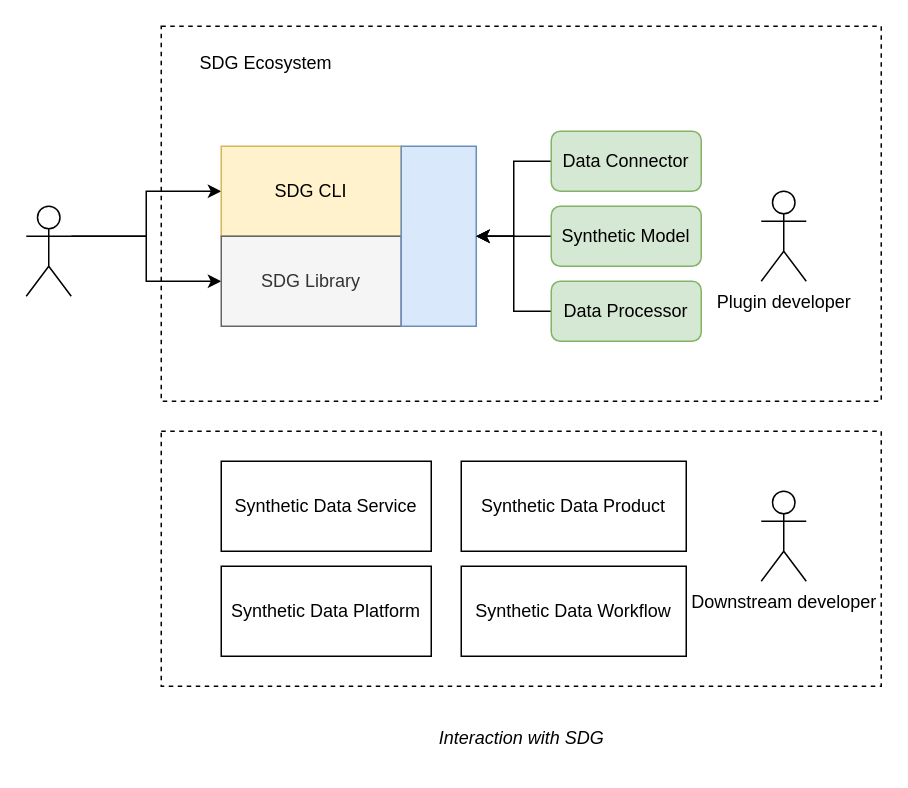
The diagram is 908 pixels wide and 788 high, and some of its shapes have lost their labels. The shapes that lost their labels are listed below. From the top down, each one's centre as x and y in pixels, then its label:
[48,250]: User
[438,235]: Plugin System
